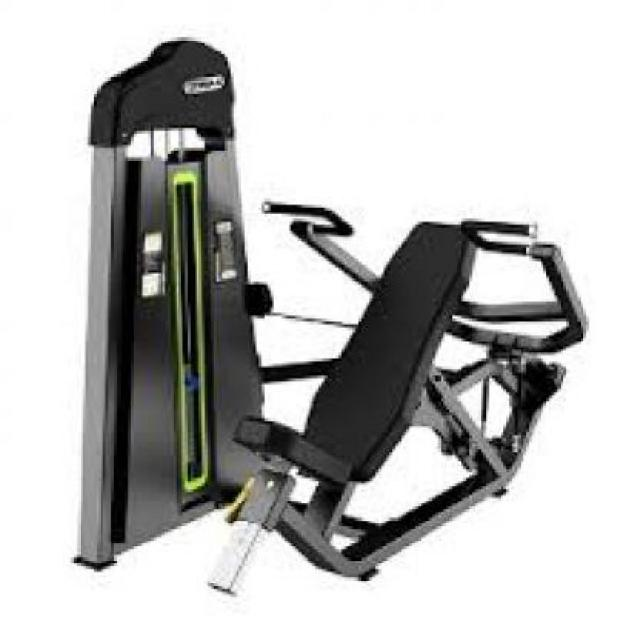shoulder press machine: (65, 29, 597, 605)
